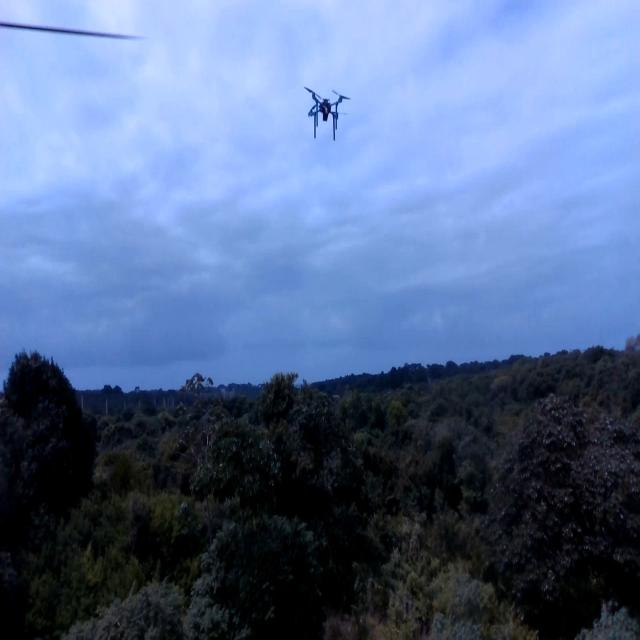-uav-: (303, 73, 350, 148)
